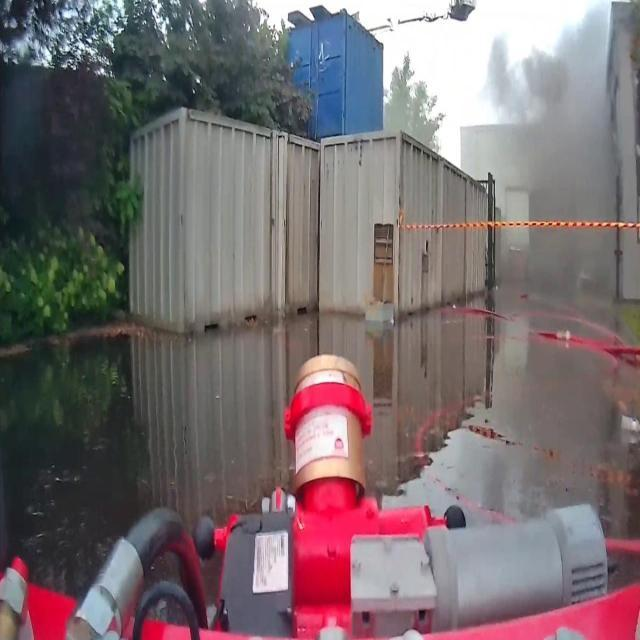Smoke: (481, 0, 621, 294)
